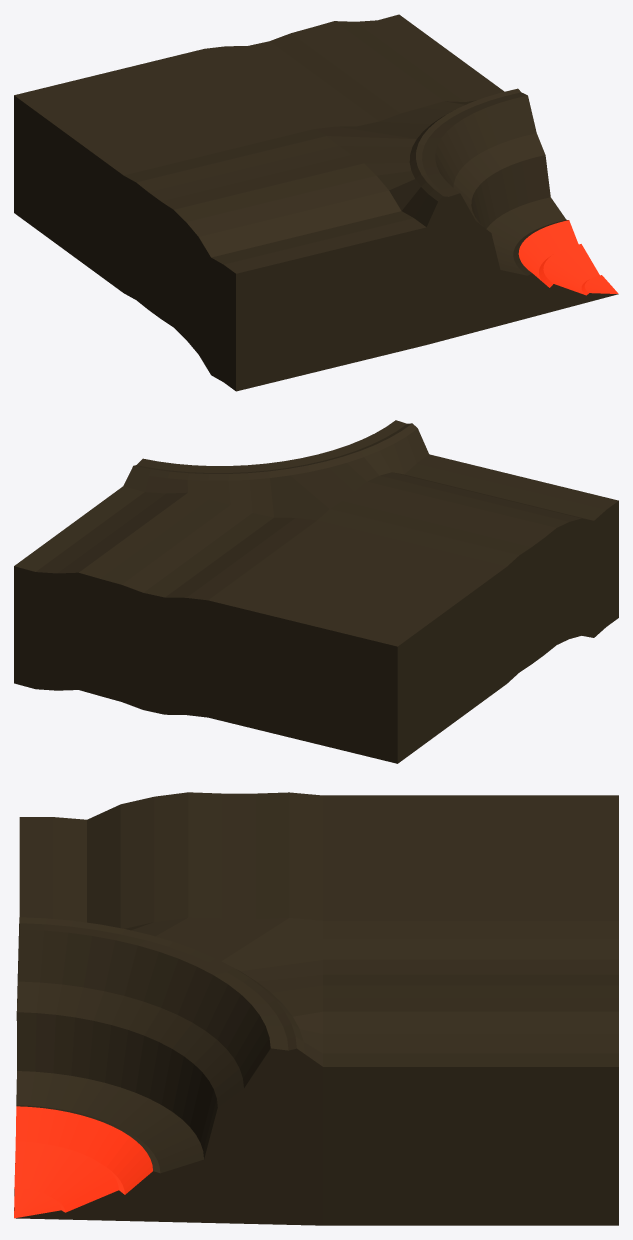
The model's file is Pit Tile Final Corner.fbx.
3 views of the same model, one above another, from view 1: azimuth 30°, elevation 25°; view 2: azimuth 150°, elevation 25°; view 3: azimuth 270°, elevation 25° (orthographic). The views are drawn at different scales.
Parts seen in each view (by area): view 1: Corner Pit Tile; view 2: Corner Pit Tile; view 3: Corner Pit Tile.
Part boxes in pixels (x1,y1,x2,y2): Corner Pit Tile: [14, 14, 618, 391]; Corner Pit Tile: [14, 420, 618, 763]; Corner Pit Tile: [14, 792, 618, 1225].
Bounding box in the file's own units: 198 × 71.95 × 199.
